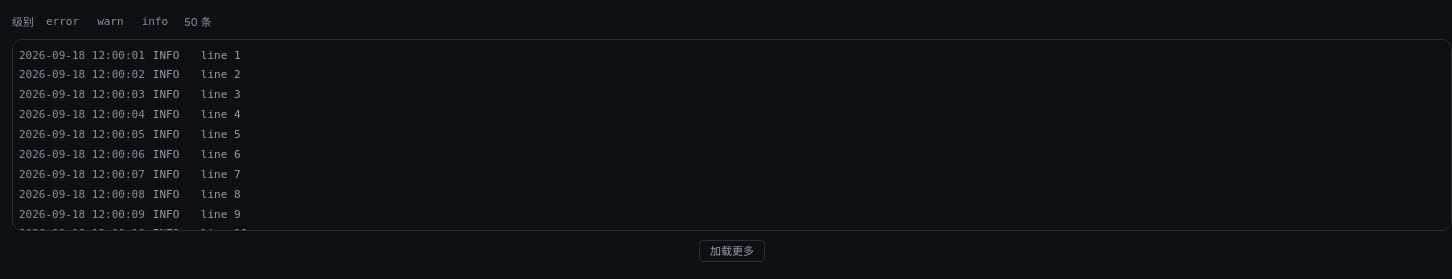
Scenario: LogViewer › 游标分页：加载更多以最后一条 id 为游标
The width and height of the screenshot is (1452, 279).
expect the text "line 1" is shown: met, box [201,48,241,62]
Click the button "加载更多" at point(732, 251), box [699,240,765,262]
(page scrolled)
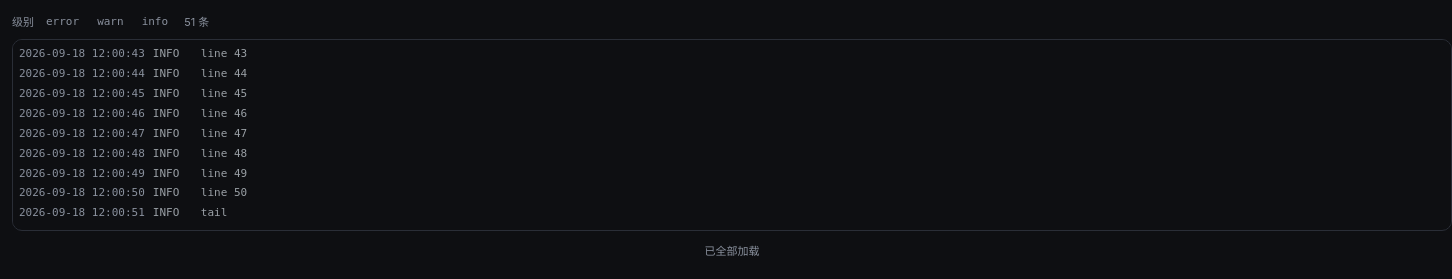
expect the text "tail" is shown: met, box [201,206,227,219]
